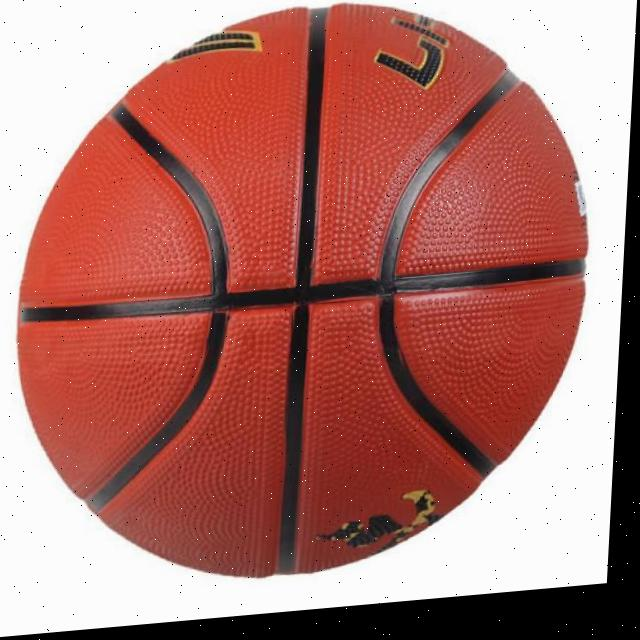Basketball: (3, 0, 600, 601)
